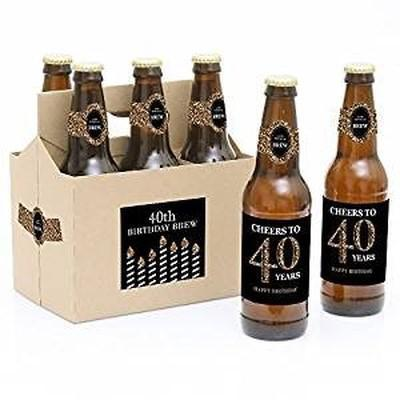beer: (239, 64, 388, 340)
